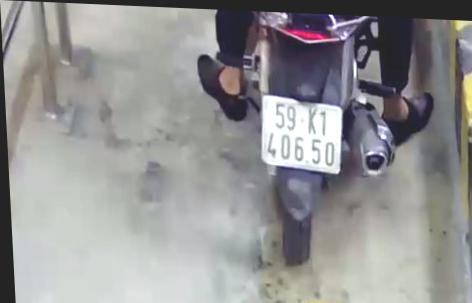License_Plate: (247, 88, 352, 182)
